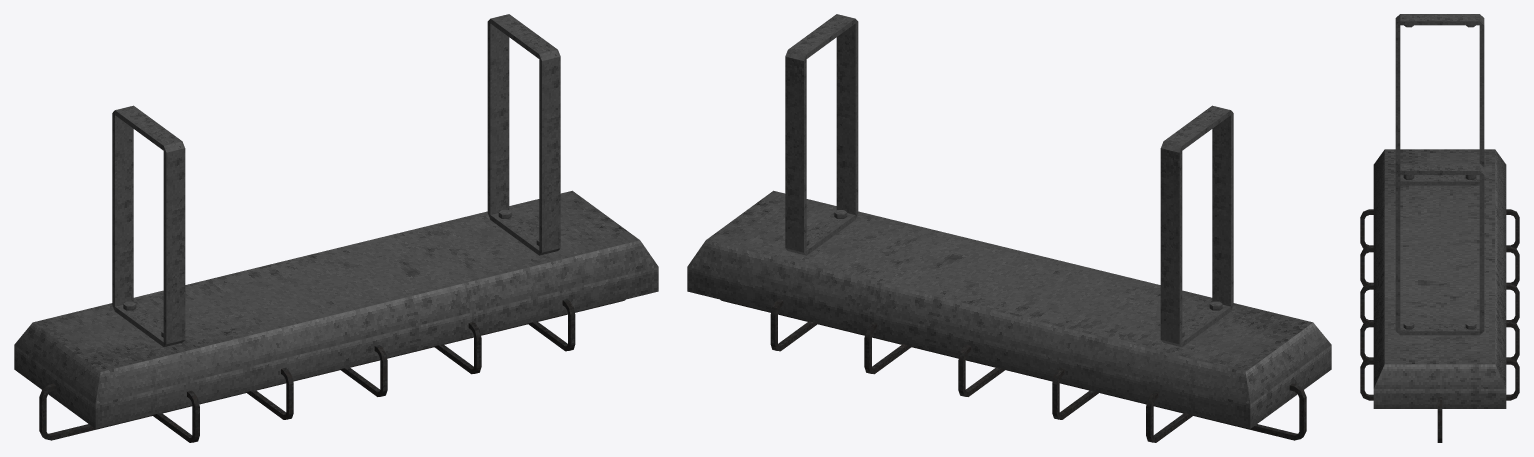
The model's file is ceiling_lamp_4_1_b_off.glb.
3 views of the same model, side by side, from view 1: azimuth 30°, elevation 25°; view 2: azimuth 150°, elevation 25°; view 3: azimuth 270°, elevation 25° (orthographic). The views are drawn at different scales.
Parts seen in each view (by area): view 1: ceiling_lamp_4_1_b_off, ceiling_lamp_4_1_b_off_protector; view 2: ceiling_lamp_4_1_b_off, ceiling_lamp_4_1_b_off_protector; view 3: ceiling_lamp_4_1_b_off, ceiling_lamp_4_1_b_off_protector.
Boxes of the visible parts, <box> form: ceiling_lamp_4_1_b_off: <box>14,14,658,428</box>; ceiling_lamp_4_1_b_off_protector: <box>39,299,625,442</box>; ceiling_lamp_4_1_b_off: <box>687,14,1331,428</box>; ceiling_lamp_4_1_b_off_protector: <box>720,299,1306,442</box>; ceiling_lamp_4_1_b_off: <box>1373,14,1506,408</box>; ceiling_lamp_4_1_b_off_protector: <box>1360,209,1519,442</box>.
Size of the model in its own units: 1.26 by 0.59 by 0.36.
2 materials, 2 textured.
